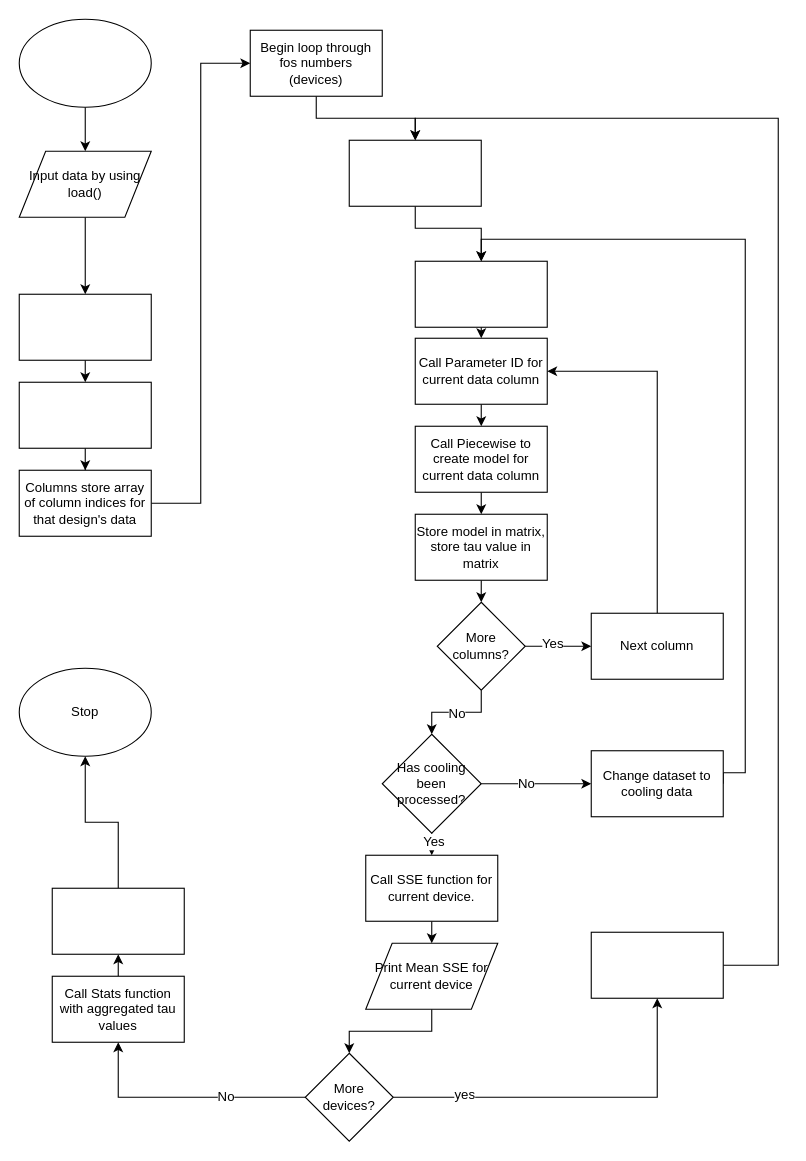
Some shapes in this 806 by 1161 pixel diagram are drawn without their labels. The centre of each missing label's shape, as x and y in pixels:
Begin loop through one device's column of data: point 480,293
Begin with heating: point 414,172
Call regression function with aggregated tau values: point 117,920
Create 5x10 matrix to lookup thermocouple designs: point 84,326
Next device: point 656,964
Row Number indicates Design Numer (ex. FOS-1, row 1): point 84,414
Start: point 84,62
